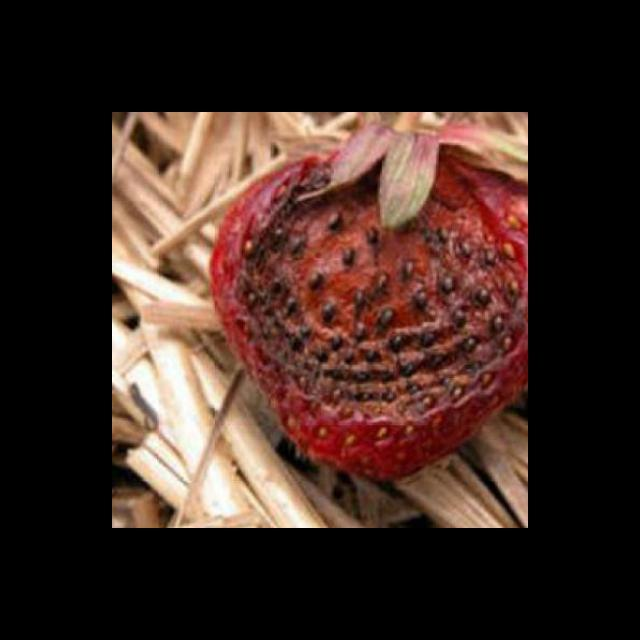Anthracnose Fruit Rot: (227, 155, 528, 424)
